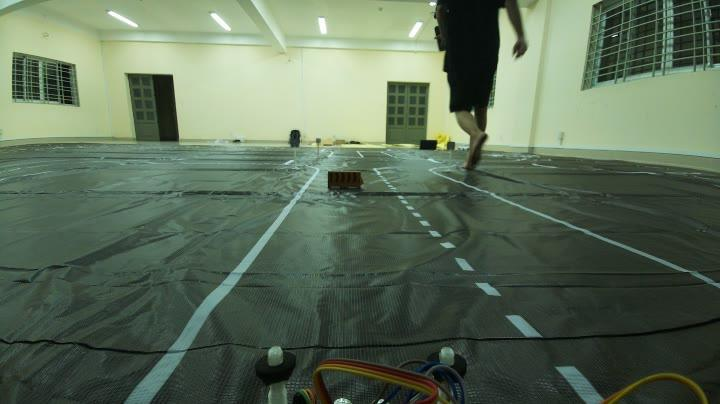roadblock: (325, 168, 370, 193)
